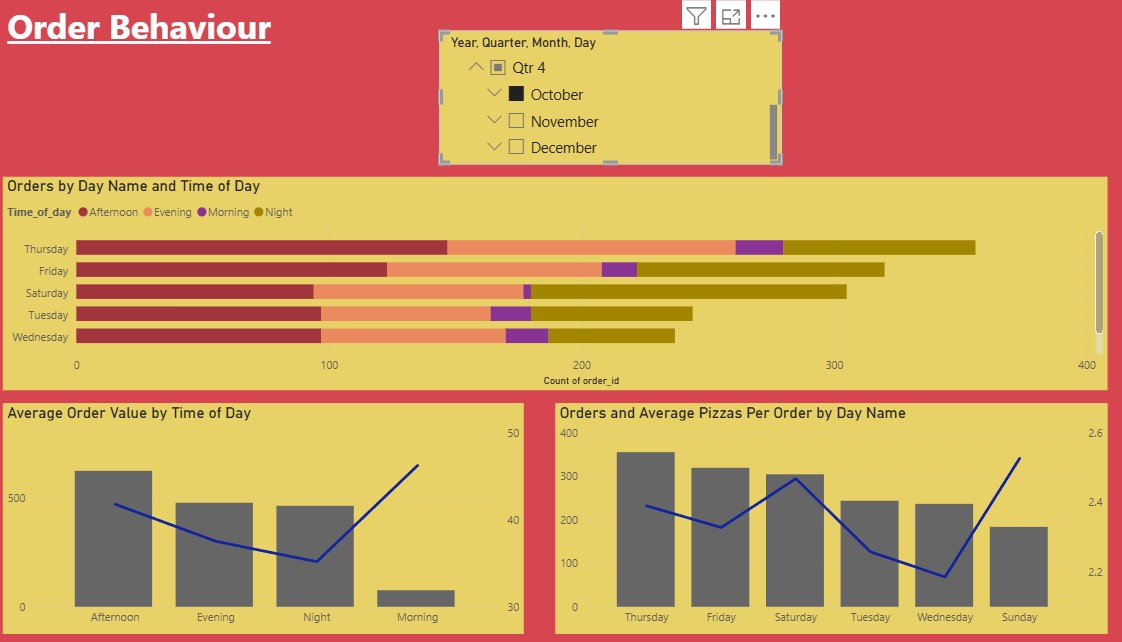

This screenshot's page, from the dashboard's own definition file:
{"tool":"powerbi","page":{"name":"Order Behaviour","canvas":[1280,720],"ordinal":4},"visuals":[{"type":"slicer","fields":{"Values":["orders.date.Variation.Date Hierarchy.Year","orders.date.Variation.Date Hierarchy.Quarter","orders.date.Variation.Date Hierarchy.Month","orders.date.Variation.Date Hierarchy.Day"]},"box":[488.5,46.7,376,146.8],"z":0},{"type":"lineStackedColumnComboChart","title":"Average Order Value by Time of Day","fields":{"Category":["orders.Time_of_day"],"Y2":["orders.Avg_ord_val"],"Y":["Count(orders.order_id)"]},"box":[9.6,455.6,572.2,253.9],"z":1000},{"type":"barChart","title":"Orders by Day Name and Time of Day","fields":{"Category":["orders.Day Name"],"Y":["CountNonNull(orders.order_id)"],"Series":["orders.Time_of_day"]},"box":[9.6,207.2,1213,234.6],"z":2000},{"type":"lineStackedColumnComboChart","title":"Orders and Average Pizzas Per Order by Day Name","fields":{"Category":["orders.Day Name"],"Y":["CountNonNull(orders.order_id)"],"Y2":["order_details.Avg_piz_per_ord"]},"box":[616.1,455.6,606.5,253.9],"z":3000},{"type":"textbox","box":[9.6,11,319.7,70],"z":3001}]}

Visuals, with their boxes in screenshot pixels (x1, y1, x2, y2), scaled from the page's 1280x720 canvas onto the 1122x642 screenshot:
slicer - orders.date.Variation.Date Hierarchy.Year x orders.date.Variation.Date Hierarchy.Quarter: <box>428,42,758,173</box>
"Average Order Value by Time of Day" lineStackedColumnComboChart: <box>8,406,510,633</box>
"Orders by Day Name and Time of Day" barChart: <box>8,185,1072,394</box>
"Orders and Average Pizzas Per Order by Day Name" lineStackedColumnComboChart: <box>540,406,1072,633</box>
textbox: <box>8,10,289,72</box>
